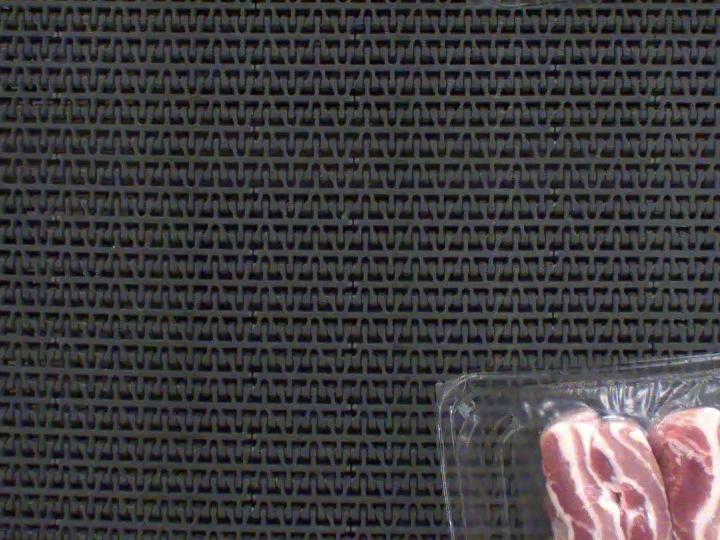unsealed: (462, 338, 720, 540)
